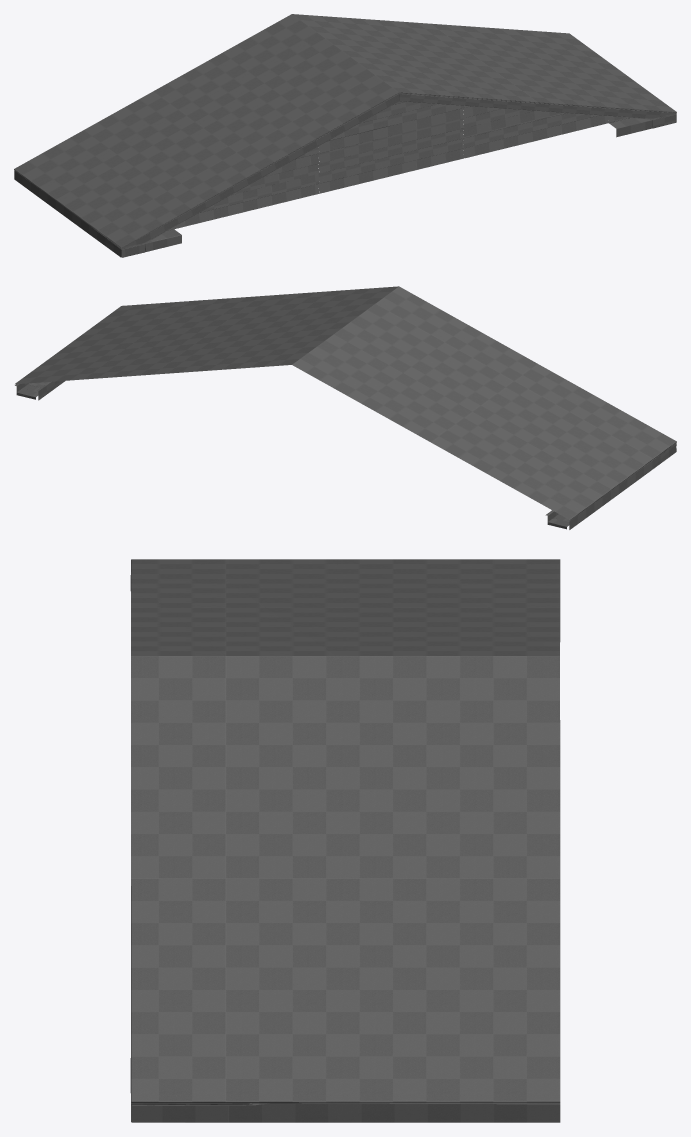
The model's file is SM_House_FrontEntranceRoof_A.glb.
The picture shows the model from 3 angles, top to bottom: view 1: azimuth 30°, elevation 25°; view 2: azimuth 150°, elevation 25°; view 3: azimuth 270°, elevation 25°; orthographic projection. The views are drawn at different scales.
Parts seen in each view (by area): view 1: SM_House_FrontEntranceRoof_A; view 2: SM_House_FrontEntranceRoof_A; view 3: SM_House_FrontEntranceRoof_A.
Part boxes in pixels (x1,y1,x2,y2): SM_House_FrontEntranceRoof_A: [14, 14, 676, 257]; SM_House_FrontEntranceRoof_A: [15, 286, 676, 529]; SM_House_FrontEntranceRoof_A: [130, 559, 560, 1122].
Size of the model in its own units: 1151 by 194 by 386.
Materials: 1 (1 with a texture image).
